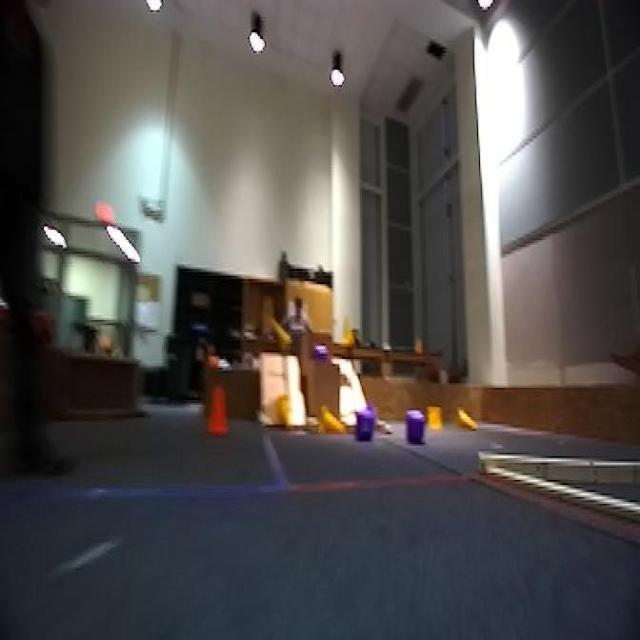frc_cone: (262, 303, 292, 352), (452, 405, 480, 434), (321, 407, 346, 439), (274, 393, 292, 432), (341, 316, 355, 351), (427, 403, 443, 429)
frc_cube: (404, 410, 426, 443), (356, 407, 375, 437), (312, 344, 329, 364)
